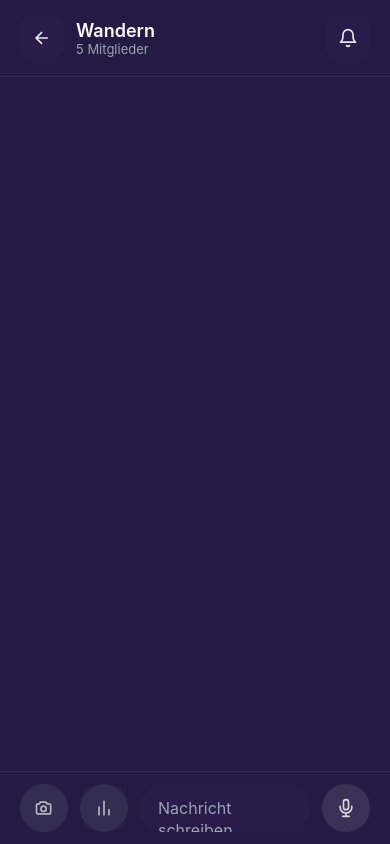
Test: ChatPage — polls › the composer's poll button opens the "Neue Umfrage" sheet
Click the button named "Umfrage erstellen": x=104, y=808 x1=80 y1=784 x2=128 y2=832
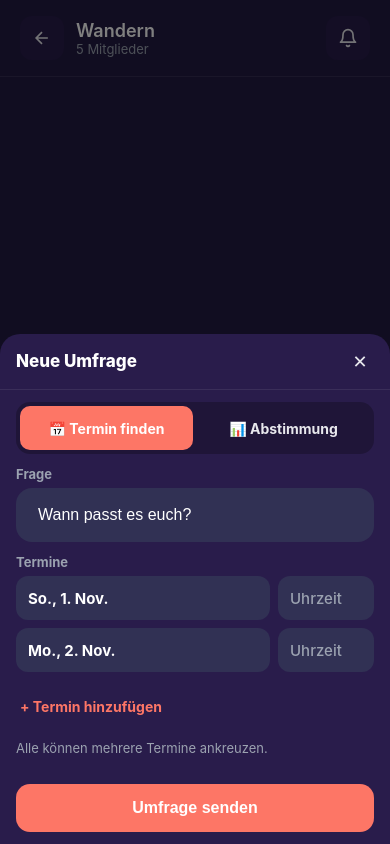
Now the dialog "Neue Umfrage" is shown
